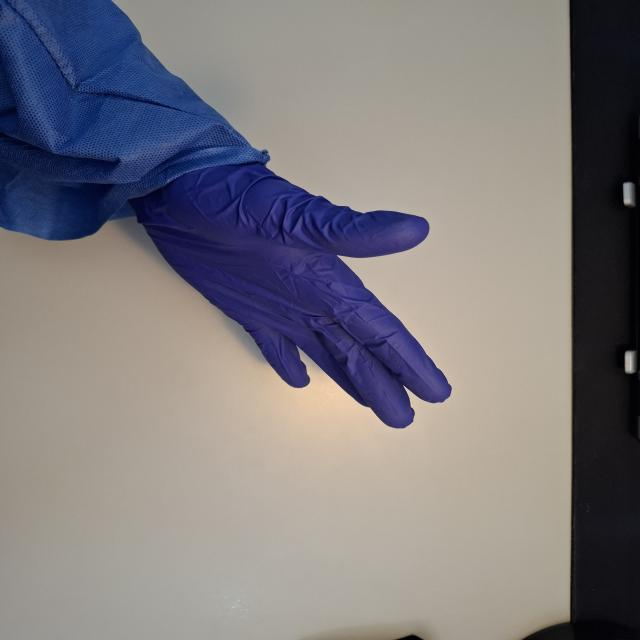glove_on: (126, 158, 457, 432)
